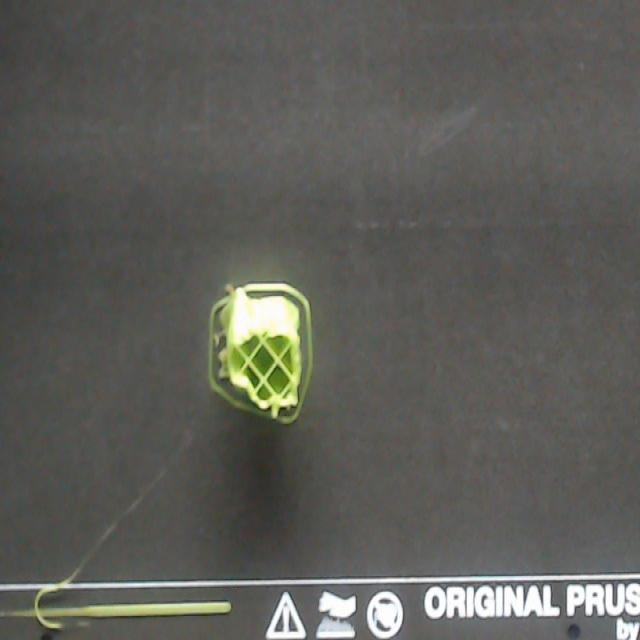mistake: (33, 564, 83, 629), (213, 332, 226, 349), (102, 523, 116, 536), (224, 286, 233, 294)
